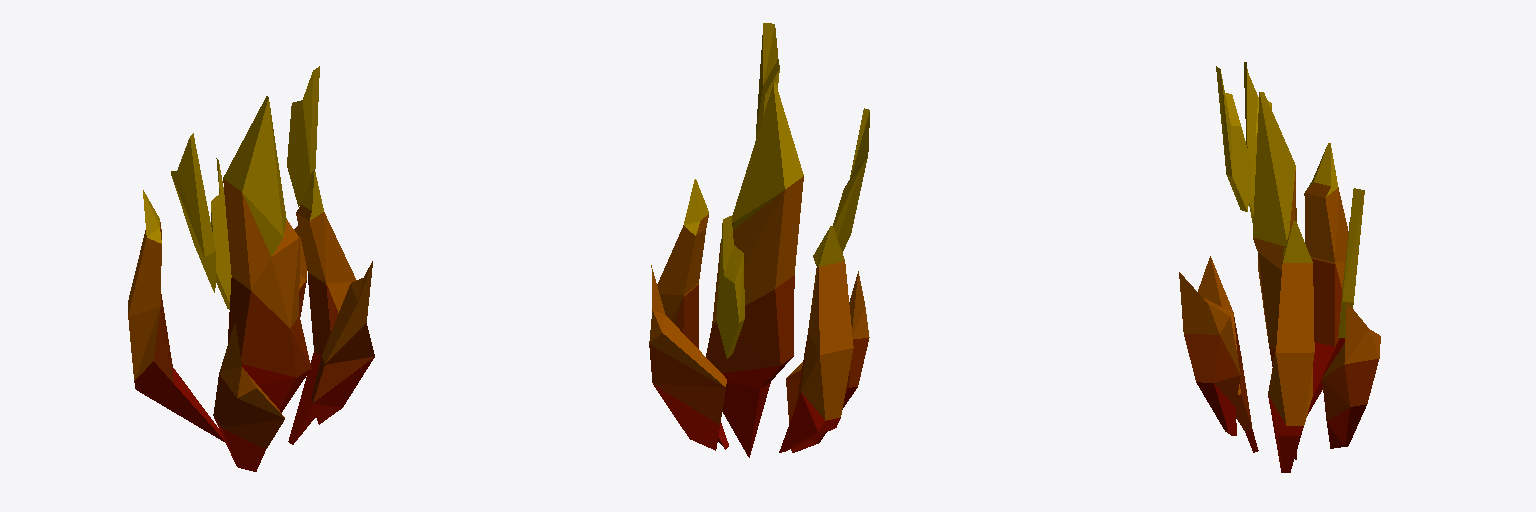
File: fire.obj
The picture shows the model from 3 angles: view 1: azimuth 30°, elevation 25°; view 2: azimuth 150°, elevation 25°; view 3: azimuth 270°, elevation 25°; orthographic projection.
Visible parts, largest first — view 1: Box003.001_Untitled.009, Box004.001_Untitled.015, Box007.001_Untitled.016, Box001.001_Untitled.010, Box006.001_Untitled.013, Box010.001_Untitled.012, Box009.001_Untitled.011, Box008.001_Untitled.014; view 2: Box003.001_Untitled.009, Box004.001_Untitled.015, Box005.001_Untitled.017, Box007.001_Untitled.016, Box008.001_Untitled.014, Box001.001_Untitled.010, Box010.001_Untitled.012, Box009.001_Untitled.011; view 3: Box007.001_Untitled.016, Box004.001_Untitled.015, Box003.001_Untitled.009, Box006.001_Untitled.013, Box005.001_Untitled.017, Box009.001_Untitled.011, Box001.001_Untitled.010, Box008.001_Untitled.014, Box010.001_Untitled.012.
Boxes of the visible parts, x1=… form: Box003.001_Untitled.009: x1=223, y1=96, x2=311, y2=412; Box004.001_Untitled.015: x1=128, y1=190, x2=224, y2=441; Box007.001_Untitled.016: x1=288, y1=172, x2=356, y2=444; Box001.001_Untitled.010: x1=213, y1=323, x2=284, y2=471; Box006.001_Untitled.013: x1=311, y1=261, x2=374, y2=424; Box010.001_Untitled.012: x1=171, y1=133, x2=215, y2=292; Box009.001_Untitled.011: x1=287, y1=66, x2=319, y2=206; Box008.001_Untitled.014: x1=211, y1=158, x2=231, y2=309; Box003.001_Untitled.009: x1=706, y1=82, x2=803, y2=457; Box004.001_Untitled.015: x1=779, y1=226, x2=853, y2=452; Box005.001_Untitled.017: x1=649, y1=265, x2=726, y2=450; Box007.001_Untitled.016: x1=657, y1=179, x2=728, y2=449; Box008.001_Untitled.014: x1=716, y1=216, x2=744, y2=358; Box001.001_Untitled.010: x1=786, y1=271, x2=869, y2=452; Box010.001_Untitled.012: x1=833, y1=108, x2=869, y2=252; Box009.001_Untitled.011: x1=756, y1=23, x2=779, y2=137; Box007.001_Untitled.016: x1=1268, y1=221, x2=1314, y2=472; Box004.001_Untitled.015: x1=1304, y1=143, x2=1348, y2=415; Box003.001_Untitled.009: x1=1253, y1=92, x2=1296, y2=459; Box006.001_Untitled.013: x1=1179, y1=272, x2=1240, y2=435; Box005.001_Untitled.017: x1=1322, y1=302, x2=1380, y2=448; Box009.001_Untitled.011: x1=1216, y1=66, x2=1251, y2=211; Box001.001_Untitled.010: x1=1198, y1=256, x2=1258, y2=452; Box008.001_Untitled.014: x1=1338, y1=188, x2=1364, y2=337; Box010.001_Untitled.012: x1=1244, y1=62, x2=1271, y2=222.
Bounding box in the file's own units: 0.336 × 0.6117 × 0.2754.